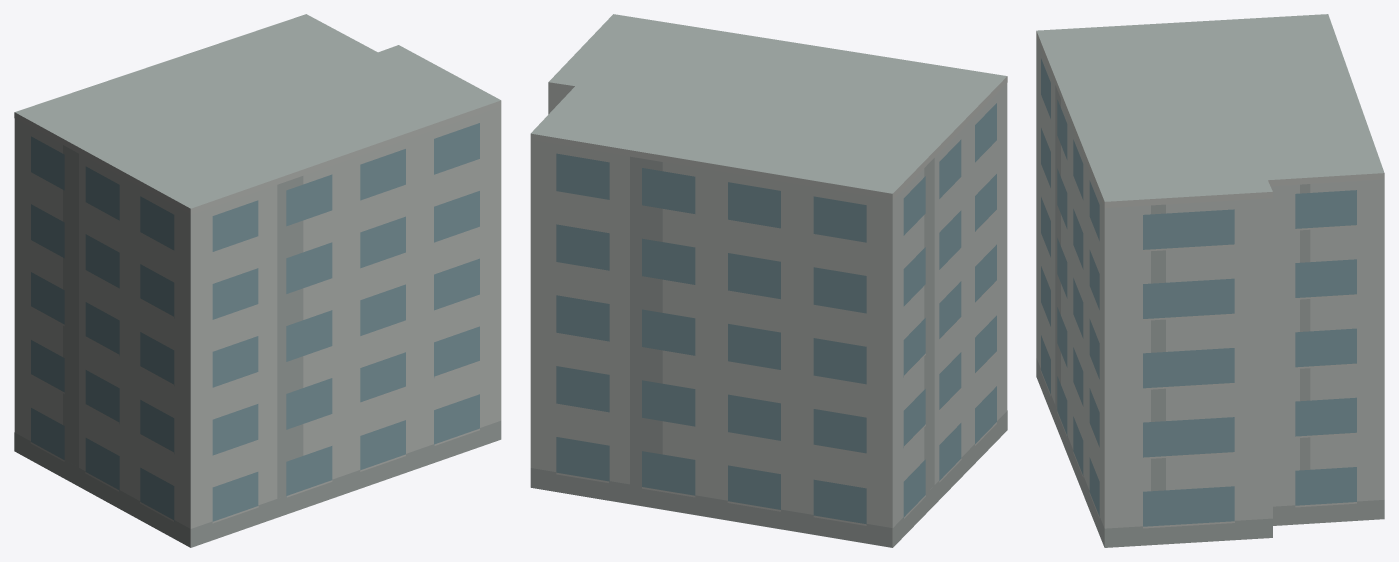
The model's file is survey-upis-32575850.glb.
The picture shows the model from 3 angles, left to right: view 1: azimuth 30°, elevation 25°; view 2: azimuth 150°, elevation 25°; view 3: azimuth 270°, elevation 25°; orthographic projection. The views are drawn at different scales.
Visible parts, largest first — view 1: survey-upis-32575850.tmp; view 2: survey-upis-32575850.tmp; view 3: survey-upis-32575850.tmp.
Part boxes in pixels (x1=…): survey-upis-32575850.tmp: x1=14, y1=14, x2=501, y2=547; survey-upis-32575850.tmp: x1=530, y1=14, x2=1007, y2=547; survey-upis-32575850.tmp: x1=1036, y1=14, x2=1384, y2=547.
Bounding box in the file's own units: 15.43 × 13.25 × 12.09.
